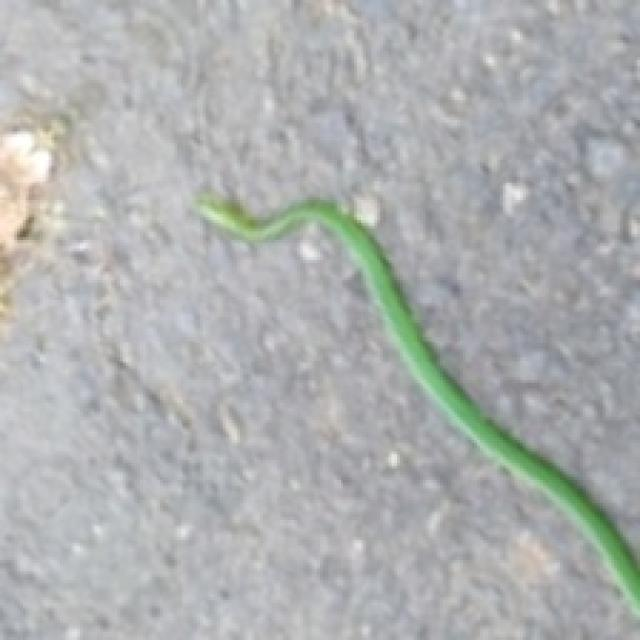red-tailed green ratsnake: (194, 191, 637, 611)
